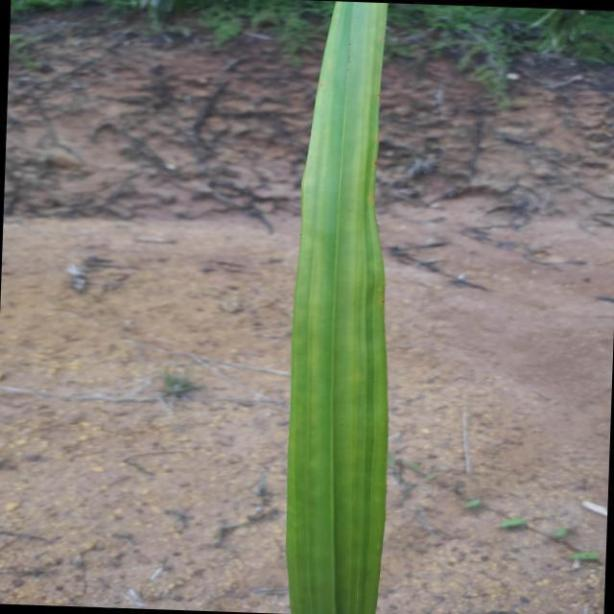nitrogen: (283, 0, 387, 614)
